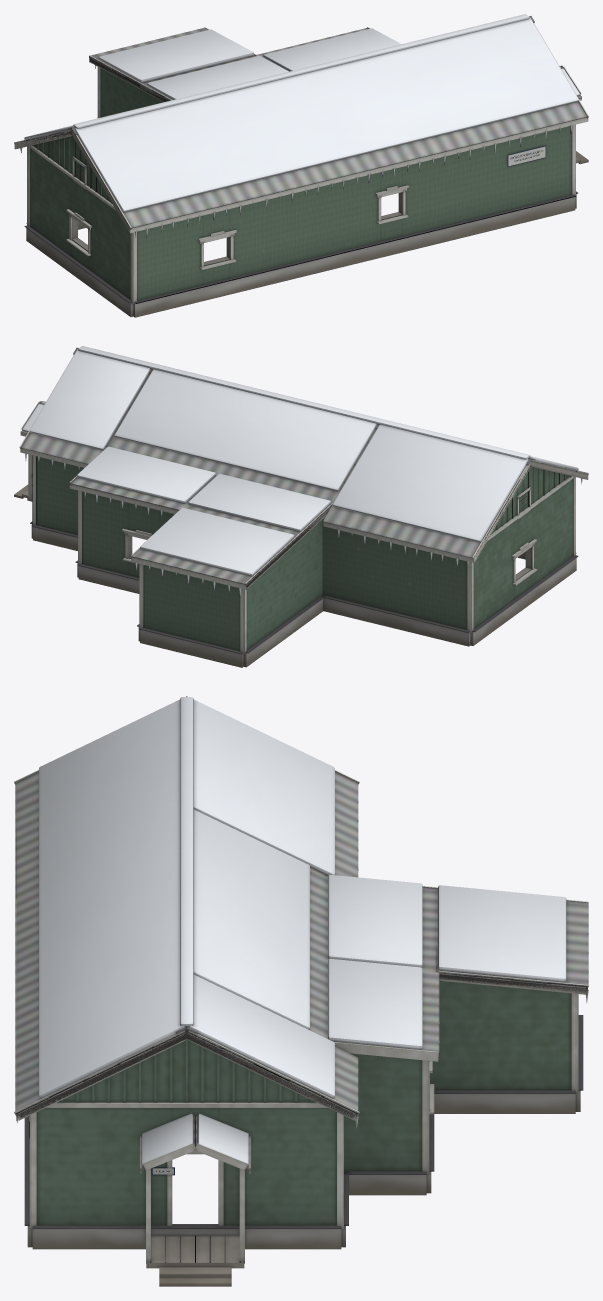
File: house_ext.glb
3 views of the same model, one above another, from view 1: azimuth 30°, elevation 25°; view 2: azimuth 150°, elevation 25°; view 3: azimuth 270°, elevation 25° (orthographic). The views are drawn at different scales.
Parts seen in each view (by area): view 1: house_ext; view 2: house_ext; view 3: house_ext.
Part boxes in pixels (x1,y1,x2,y2): house_ext: (14,14,588,317); house_ext: (14,346,588,667); house_ext: (14,696,588,1286).
Bounding box in the file's own units: 20.34 × 5.91 × 13.48.
1 material, 1 textured.
